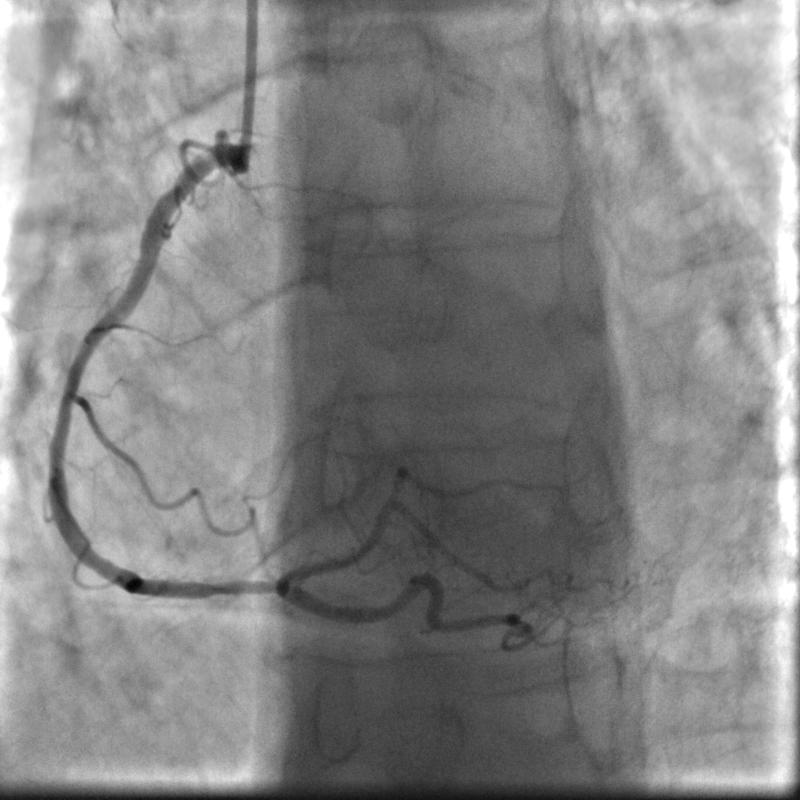Stenosis: (178, 570, 274, 615)
